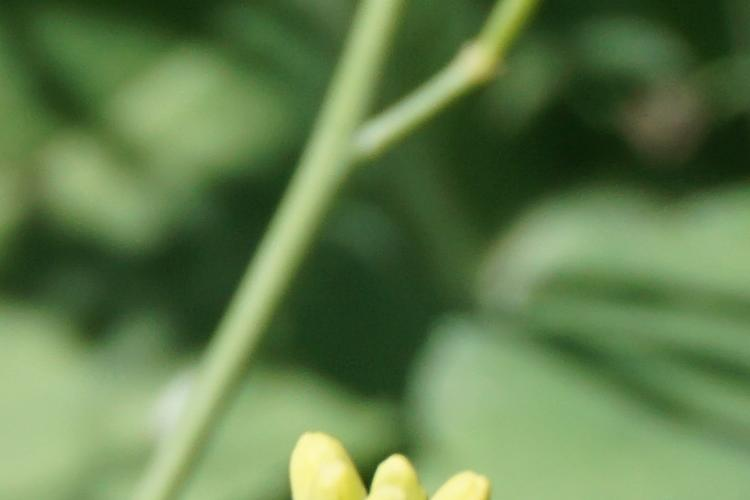bud: (290, 438, 365, 500), (370, 458, 428, 500), (435, 465, 497, 499)
